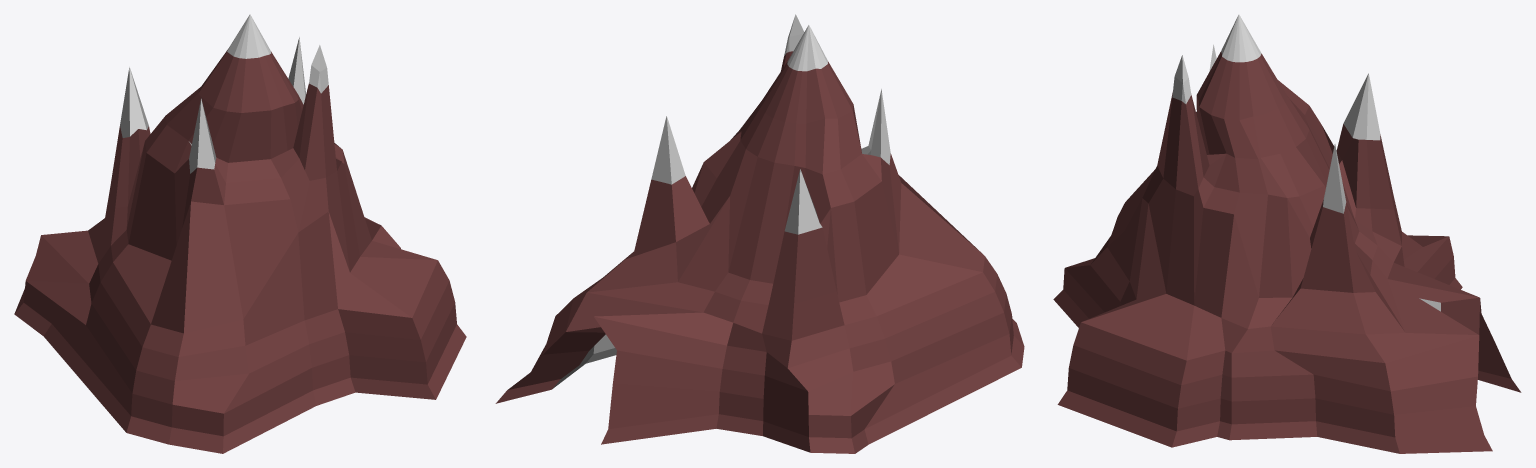
Rendered from CaveExterior.fbx.
The picture shows the model from 3 angles, left to right: view 1: azimuth 30°, elevation 25°; view 2: azimuth 150°, elevation 25°; view 3: azimuth 270°, elevation 25°; orthographic projection. The views are drawn at different scales.
Visible parts, largest first — view 1: pSphere1; view 2: pSphere1; view 3: pSphere1.
Part boxes in pixels (<box>): pSphere1: <box>14,14,466,453</box>; pSphere1: <box>495,14,1024,453</box>; pSphere1: <box>1053,14,1521,453</box>.
Bounding box in the file's own units: 398 × 356 × 439.
